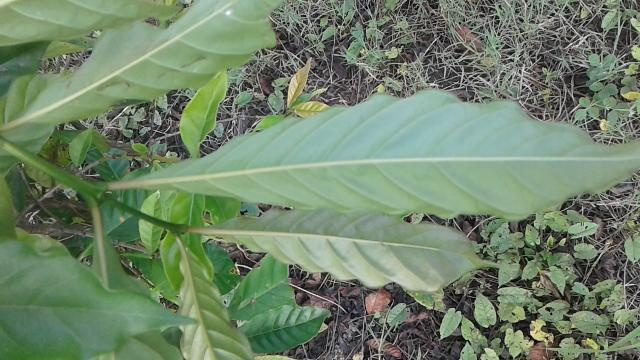healthy: (126, 87, 638, 222)
